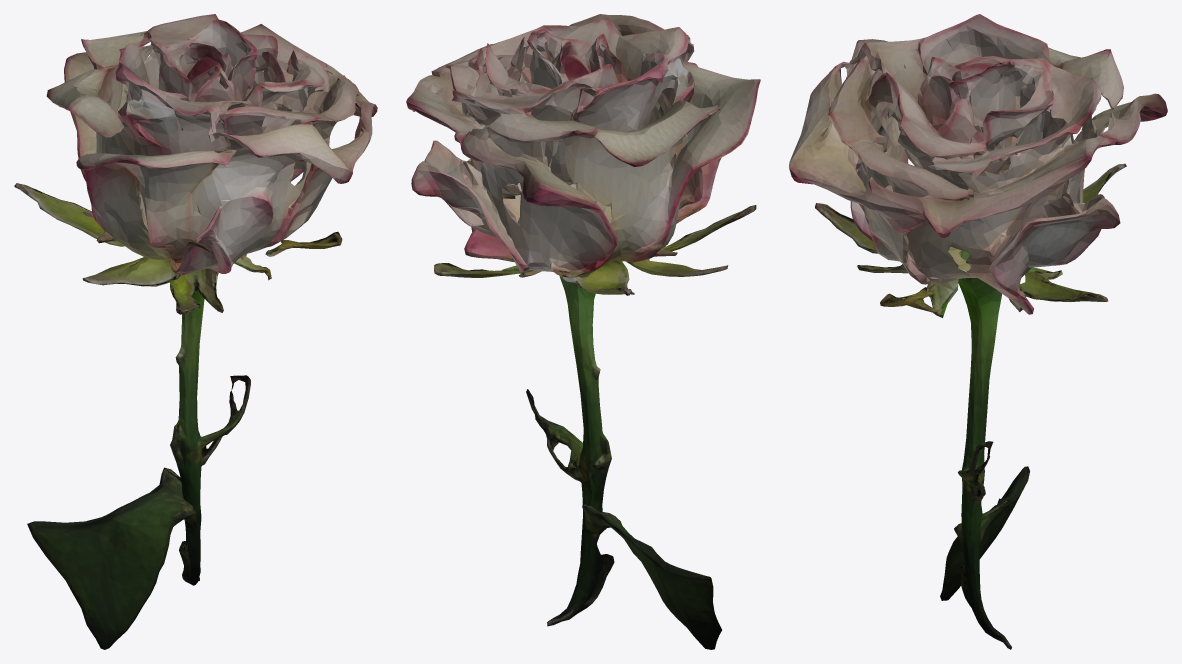
3 views of the same model, side by side, from view 1: azimuth 30°, elevation 25°; view 2: azimuth 150°, elevation 25°; view 3: azimuth 270°, elevation 25° (orthographic). The views are drawn at different scales.
Parts seen in each view (by area): view 1: world; view 2: world; view 3: world.
Part boxes in pixels (left/top/right/bottom): world: left=14, top=14, right=377, bottom=649; world: left=406, top=14, right=760, bottom=649; world: left=789, top=14, right=1167, bottom=649.
Bounding box in the file's own units: 0.5612 × 1 × 0.5583.
Materials: 1 (1 with a texture image).
